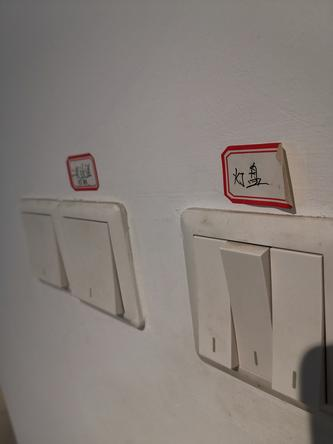switch: (262, 240, 327, 407), (220, 236, 277, 385), (59, 214, 131, 321), (189, 230, 239, 370), (19, 209, 70, 292)
